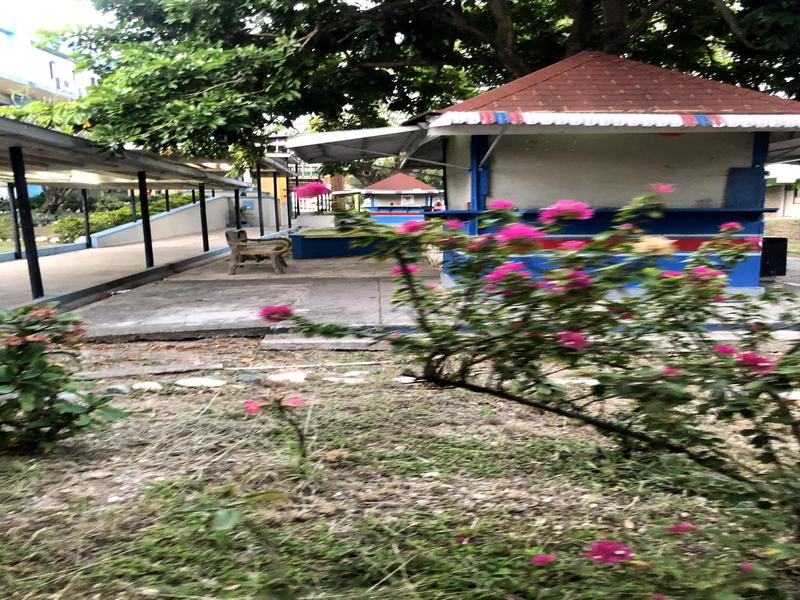18.0050609_-76.7496662_auntyjackie: (277, 21, 800, 333)
